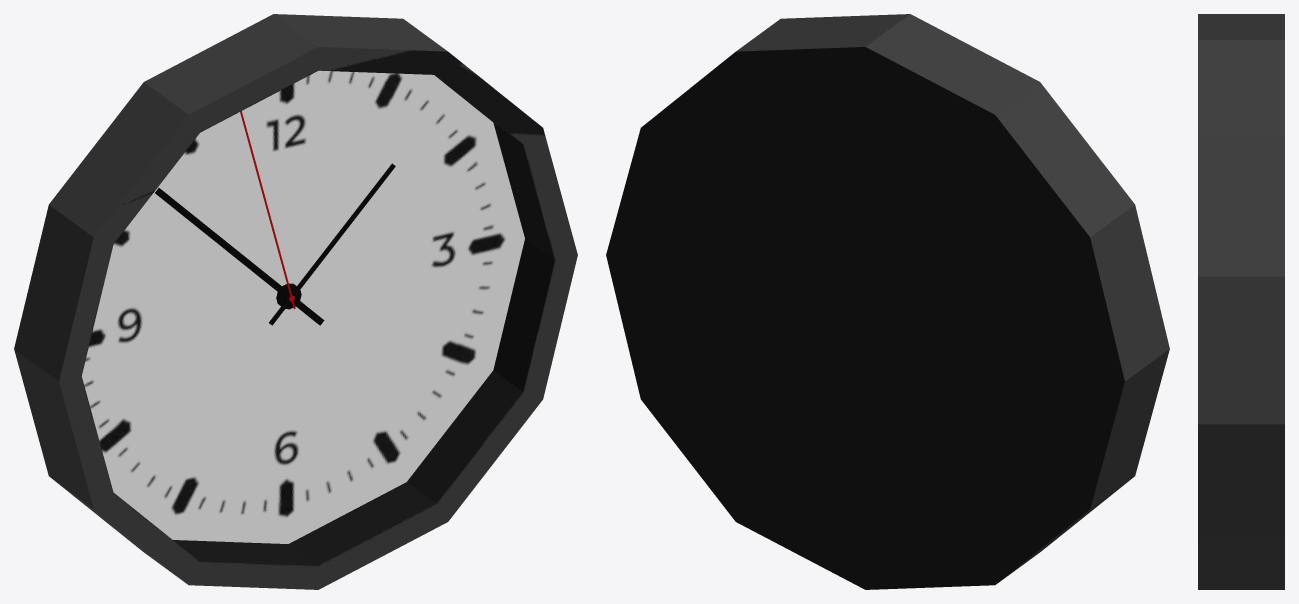
File: Watch_Black.fbx
3 views of the same model, side by side, from view 1: azimuth 30°, elevation 25°; view 2: azimuth 150°, elevation 25°; view 3: azimuth 270°, elevation 25° (orthographic). The views are drawn at different scales.
Parts seen in each view (by area): view 1: Watch.005; view 2: Watch.005; view 3: Watch.005.
Boxes of the visible parts, bbox=[...] form: Watch.005: bbox=[14, 14, 577, 589]; Watch.005: bbox=[606, 14, 1169, 589]; Watch.005: bbox=[1198, 14, 1284, 589].
Size of the model in its own units: 30 by 30 by 4.5.
